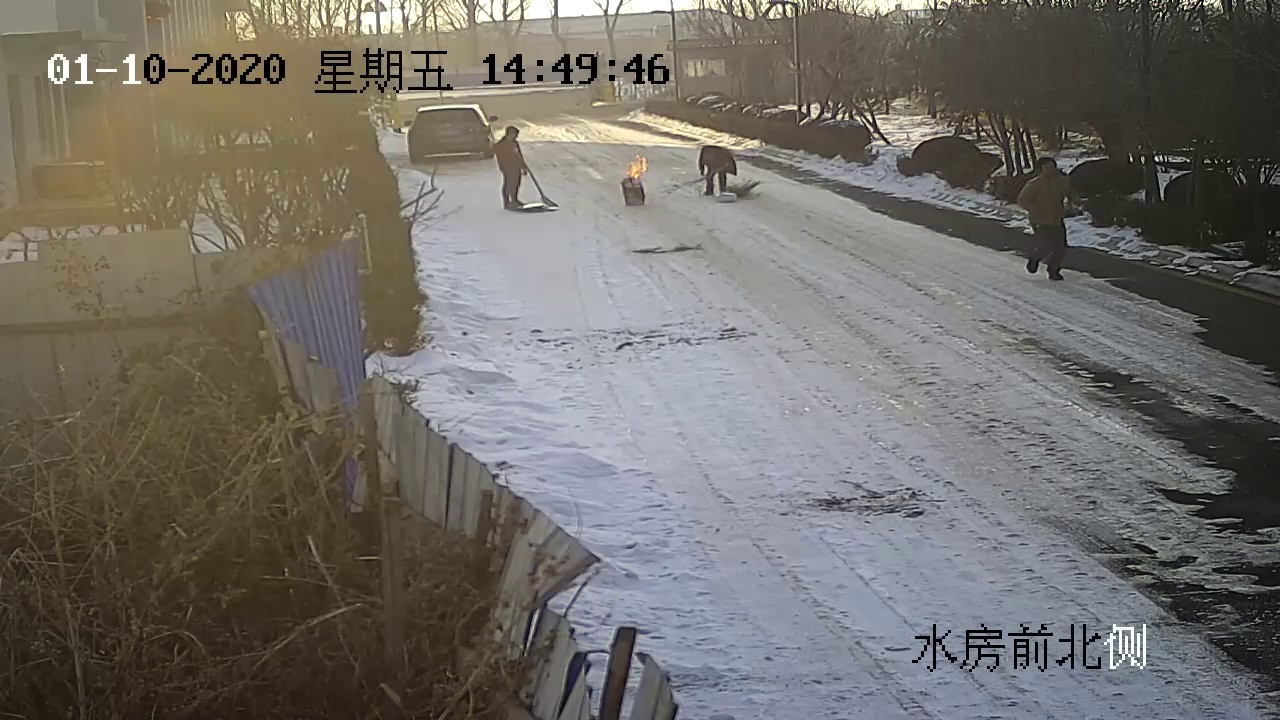fire: (629, 153, 648, 175)
